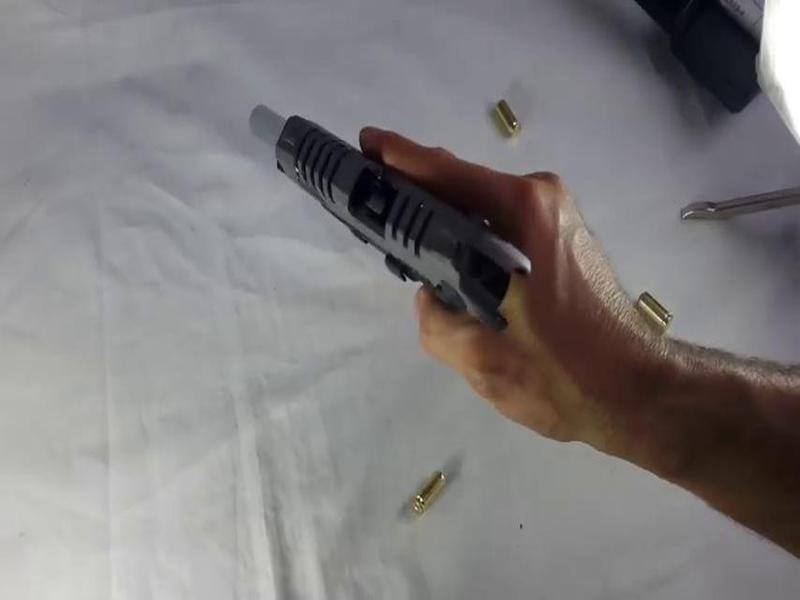Pistola: (214, 94, 572, 350)
